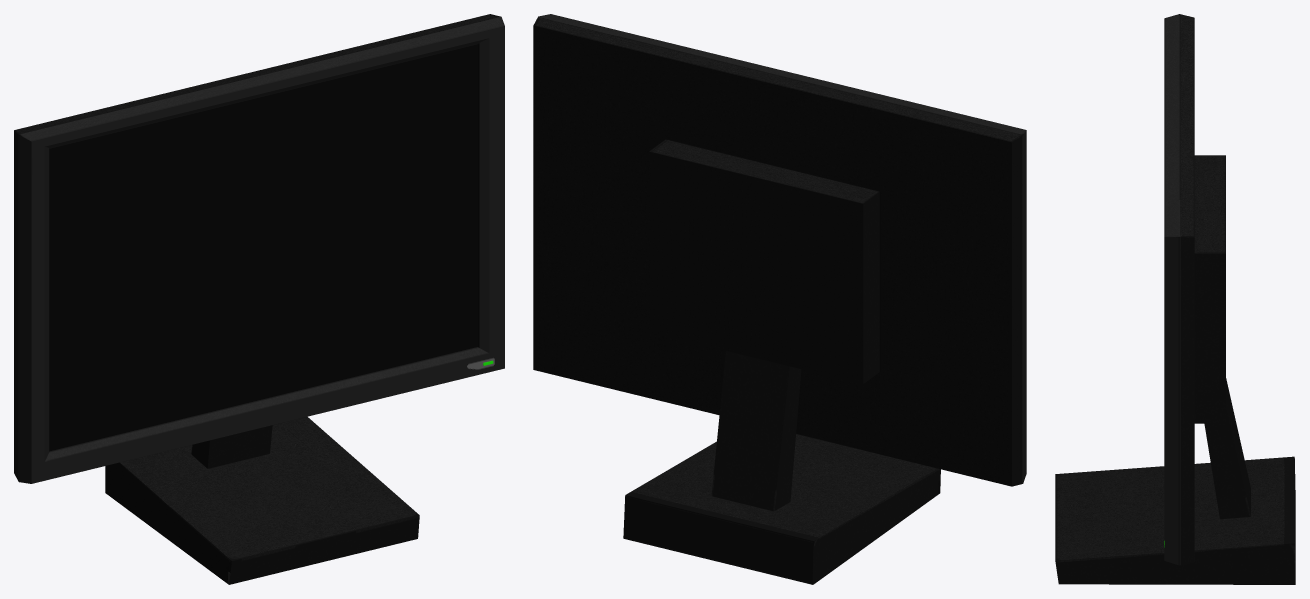
The model's file is Sceen.fbx.
3 views of the same model, side by side, from view 1: azimuth 30°, elevation 25°; view 2: azimuth 150°, elevation 25°; view 3: azimuth 270°, elevation 25° (orthographic). The views are drawn at different scales.
Parts seen in each view (by area): view 1: Screen.001; view 2: Screen.001; view 3: Screen.001.
Part boxes in pixels (<box>): Screen.001: <box>14,14,504,584</box>; Screen.001: <box>533,14,1026,584</box>; Screen.001: <box>1055,14,1295,584</box>.
Bounding box in the file's own units: 48.48 × 42.16 × 22.1.
